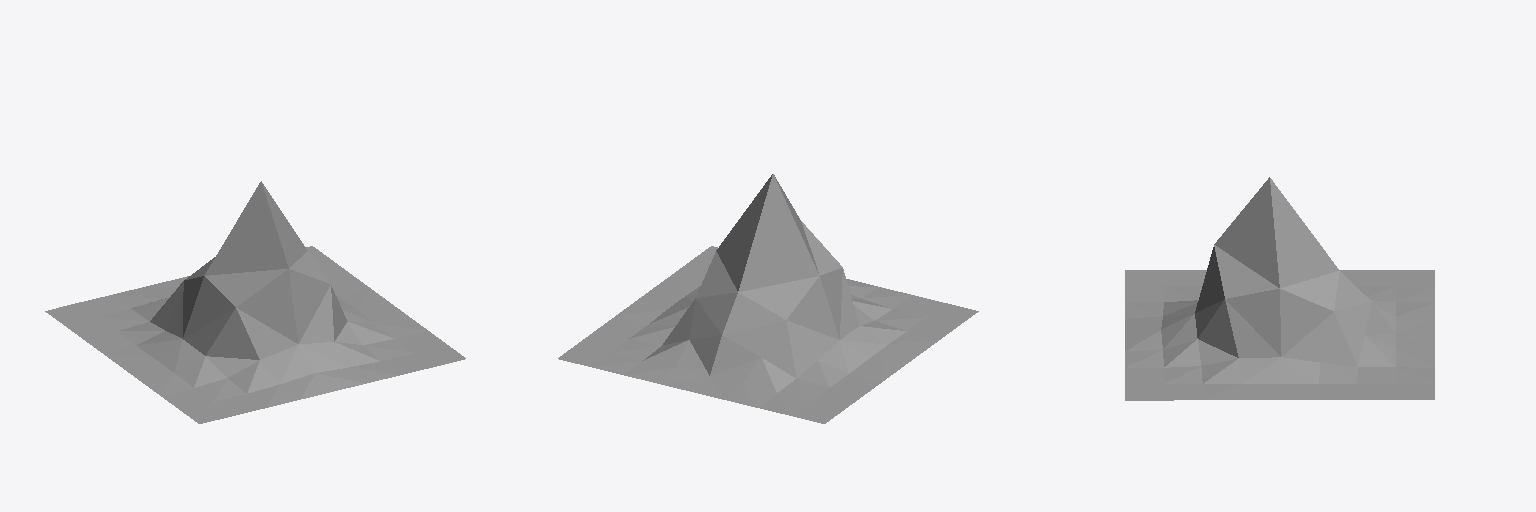
File: Terrain4.obj
3 renders of one model, left to right at view 1: azimuth 30°, elevation 25°; view 2: azimuth 150°, elevation 25°; view 3: azimuth 270°, elevation 25°, orthographic.
Visible parts, largest first — view 1: Plane.001; view 2: Plane.001; view 3: Plane.001.
Boxes of the visible parts, box(x1,y1,x2,y2) form: Plane.001: box(45, 181, 465, 423); Plane.001: box(558, 174, 978, 423); Plane.001: box(1125, 177, 1434, 400).
Bounding box in the file's own units: 4.16 × 2.35 × 4.16.